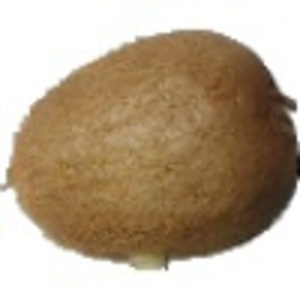kiwi: (1, 1, 300, 275)
